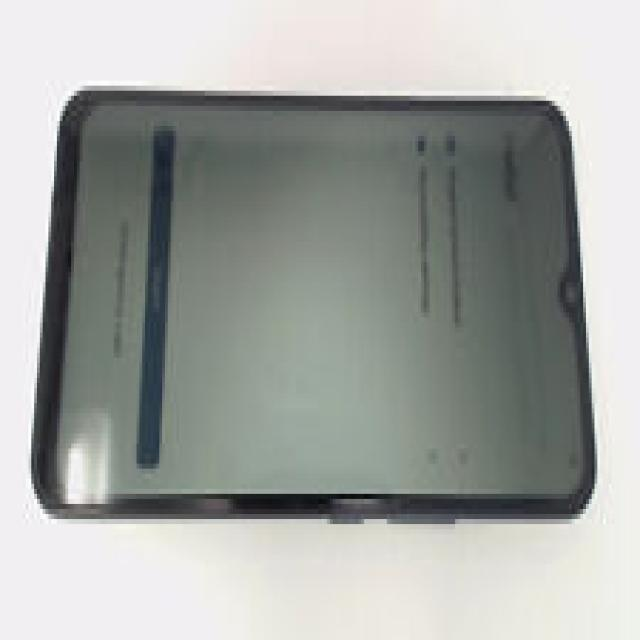mobile phone: (29, 81, 598, 524)
